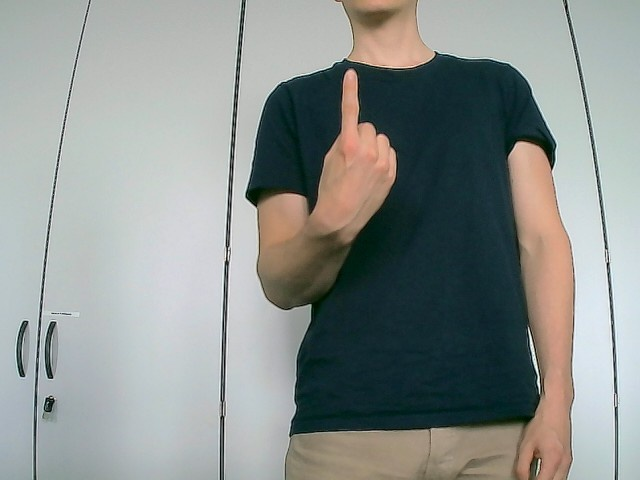up: (310, 67, 398, 240)
